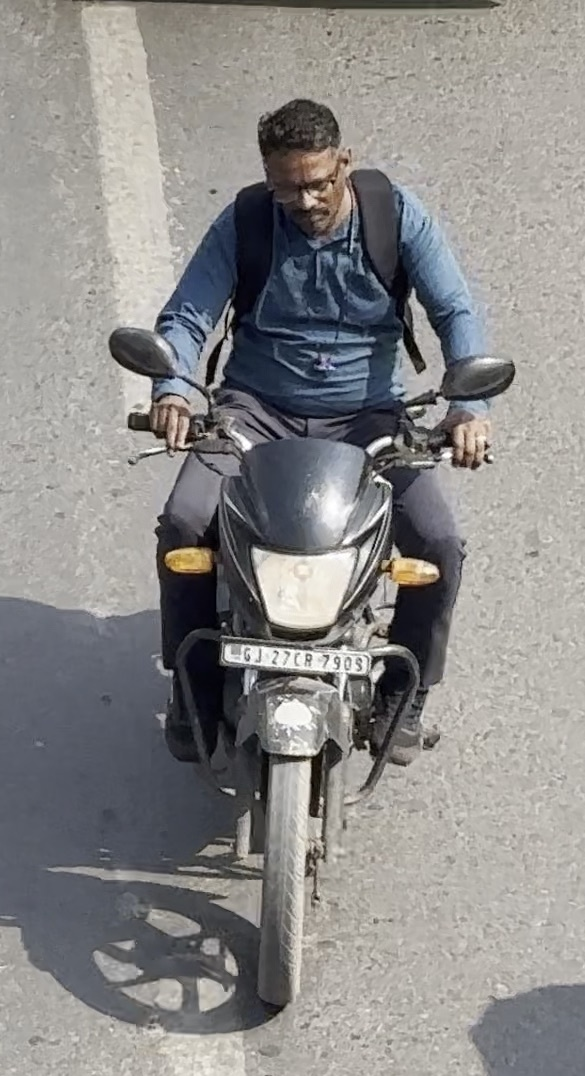BikeWithRider: (96, 85, 526, 1019)
NoHelmet: (239, 89, 367, 234)
